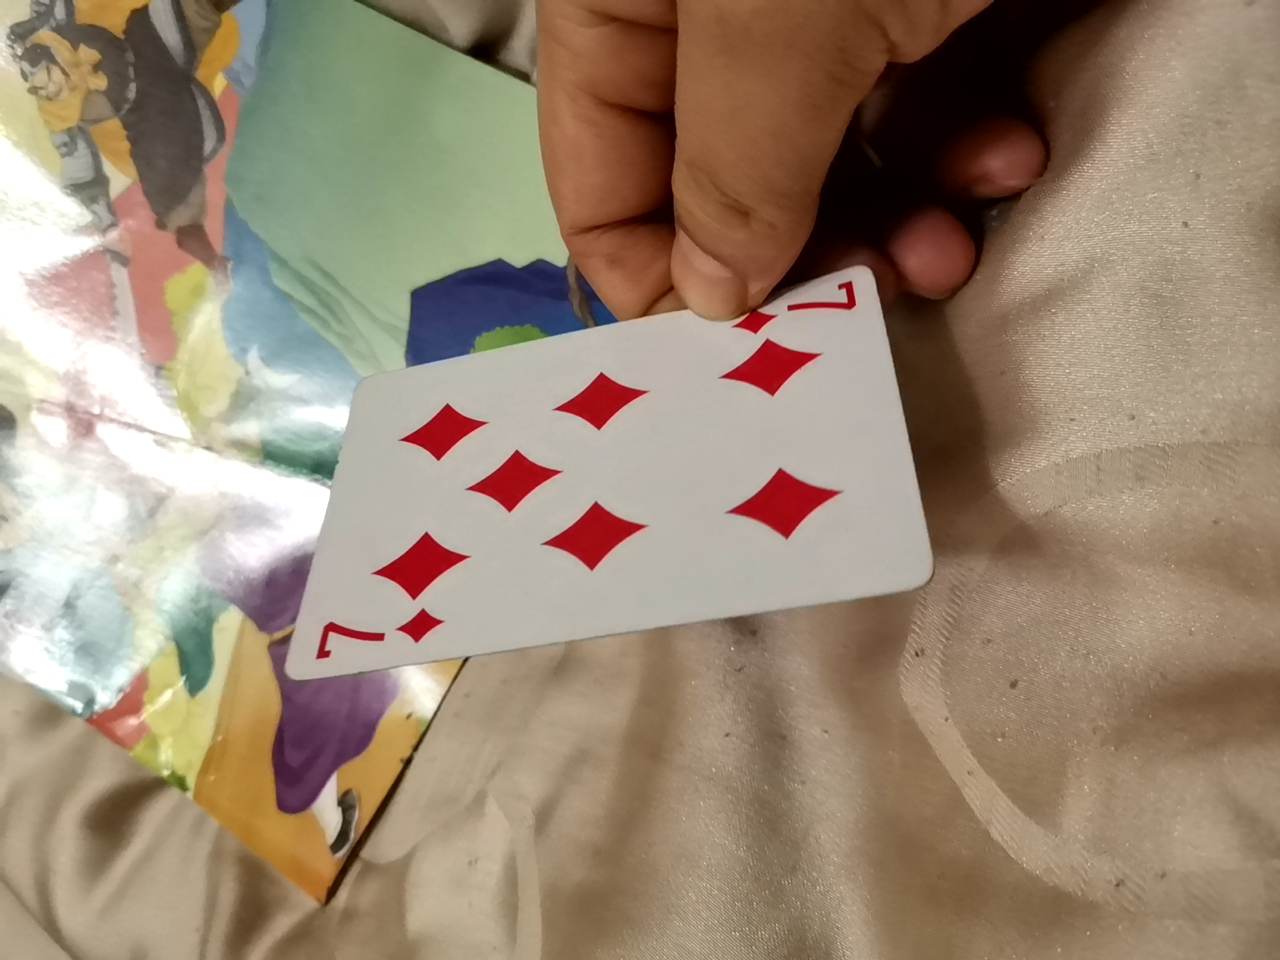fk 7: (321, 296, 950, 675)
